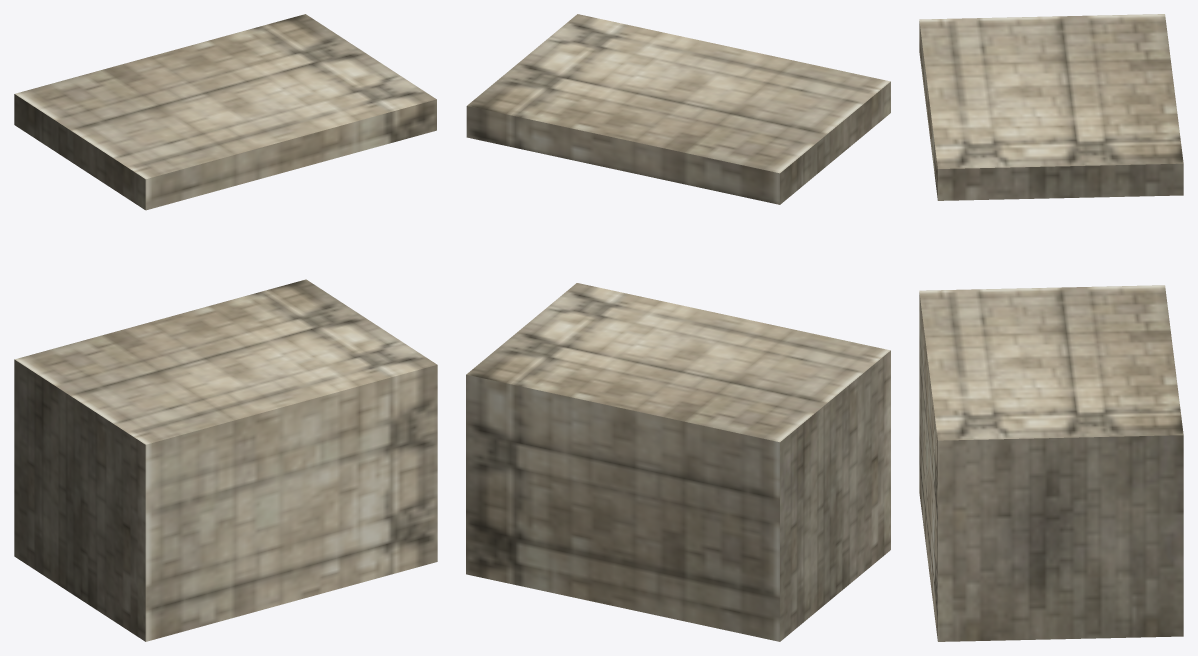
Rendered from walls_and_columns_5.fbx.
3 renders of one model, left to right at view 1: azimuth 30°, elevation 25°; view 2: azimuth 150°, elevation 25°; view 3: azimuth 270°, elevation 25°, orthographic. The views are drawn at different scales.
Parts seen in each view (by area): view 1: walls_and_columns_5; view 2: walls_and_columns_5; view 3: walls_and_columns_5.
Boxes of the visible parts, x1,y1,x2,y2 form: walls_and_columns_5: [14, 14, 437, 641]; walls_and_columns_5: [466, 14, 890, 641]; walls_and_columns_5: [919, 14, 1183, 641].
Bounding box in the file's own units: 388 × 551 × 279.
